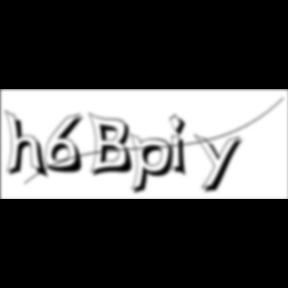6: (46, 112, 90, 176)
B: (89, 111, 139, 179)
h: (4, 108, 52, 182)
i: (170, 112, 194, 180)
p: (130, 132, 180, 198)
y: (194, 132, 248, 196)
